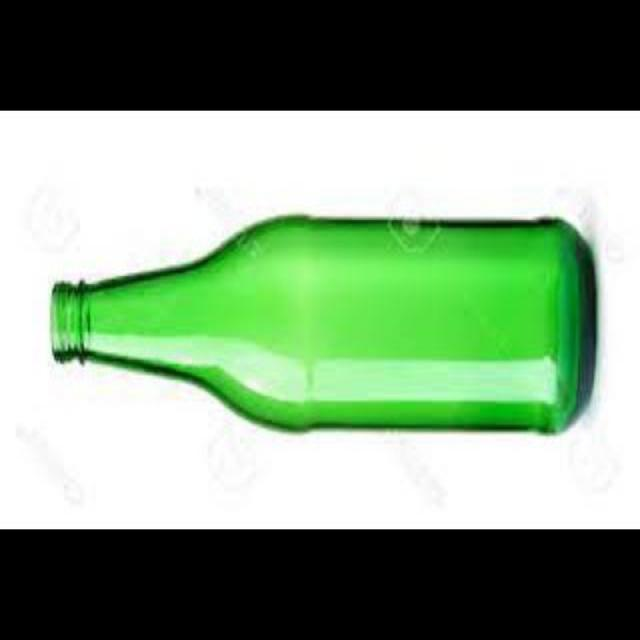Glass: (49, 211, 597, 437)
